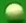white: (0, 0, 26, 23)
